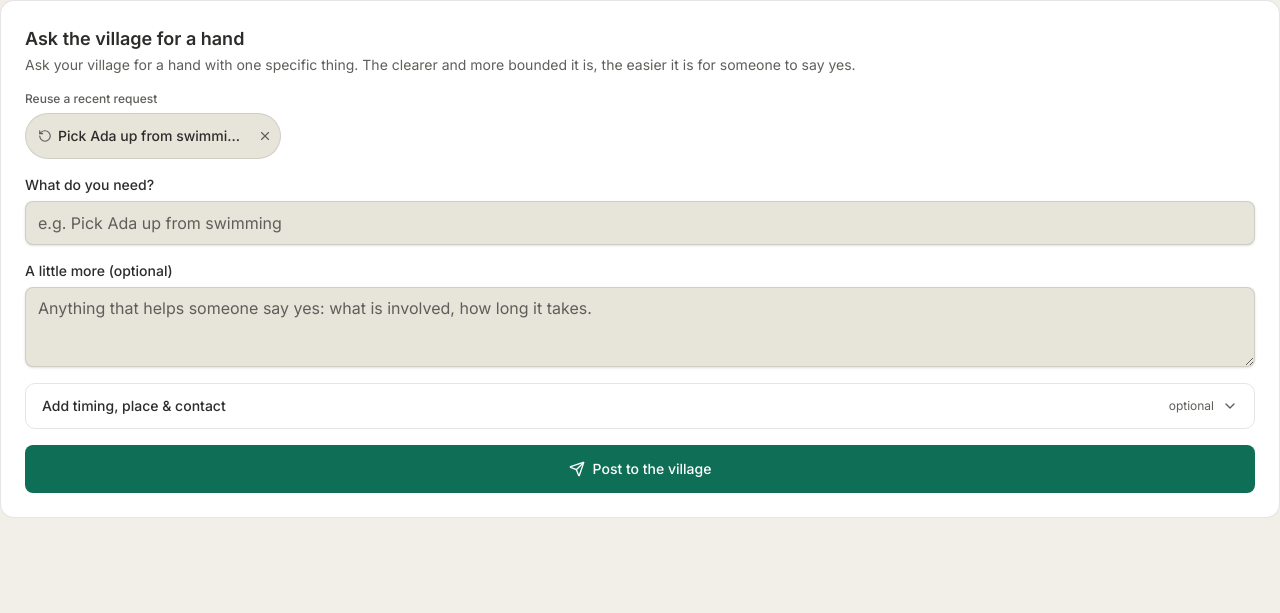
Test case: PostNeedForm › recording consent re-submits the pending need (consent endpoint then create)
Step 1. Type "Pick Ada up" into the field labelled "What do you need?" → (640, 223), box [25,201,1255,245]
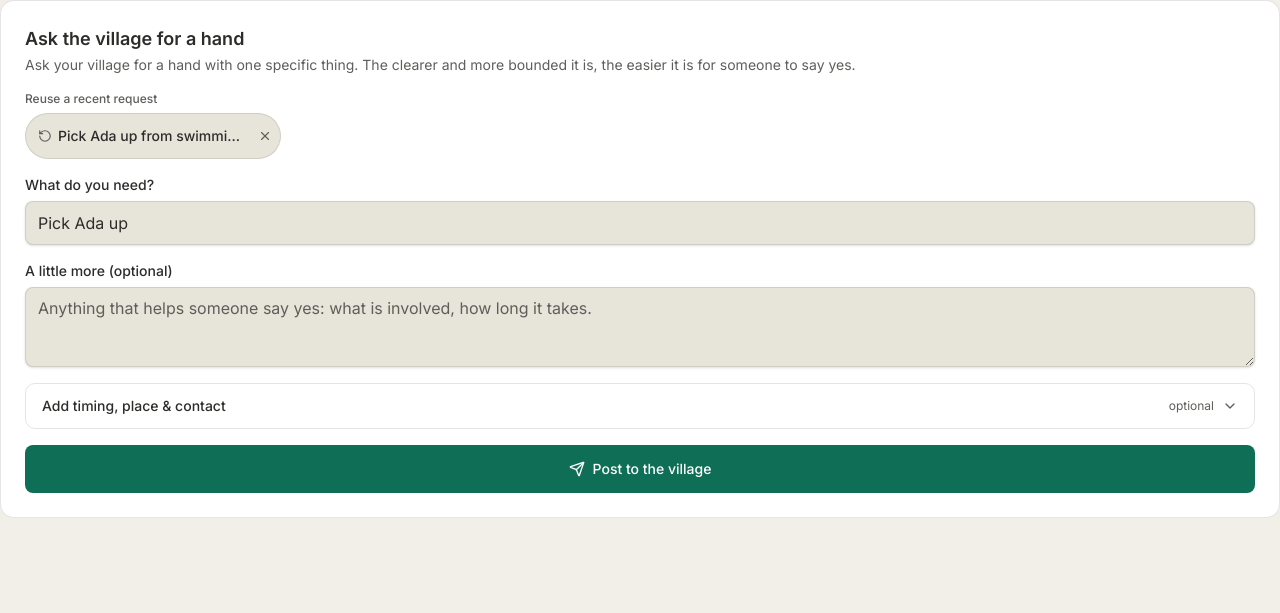
Step 2. Click the button "Post to the village" → (640, 469), box [25,445,1255,493]
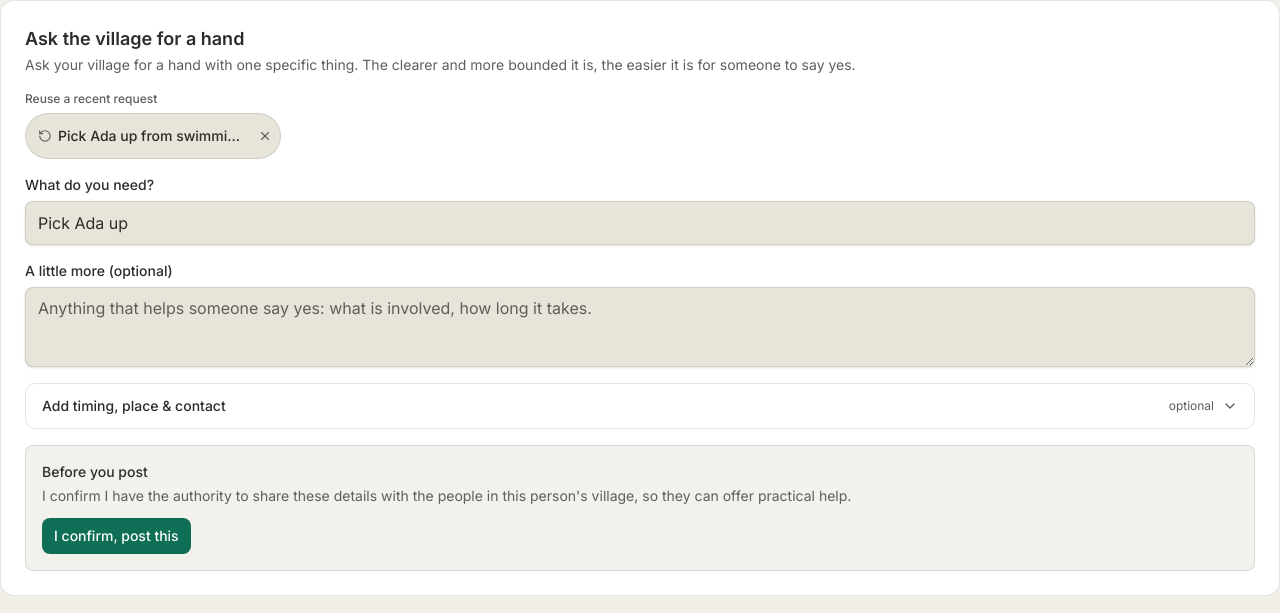
Step 3. Click the button "I confirm, post this" → (116, 536), box [42,518,191,554]
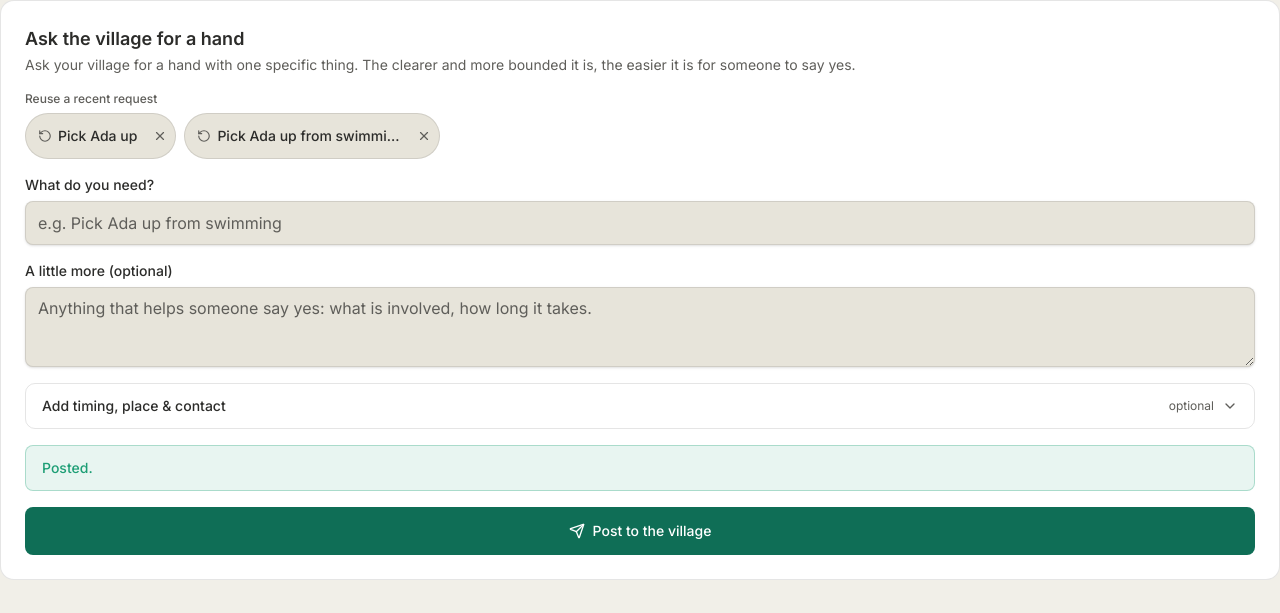
Expected: the text "Posted." is shown, [25,445,1255,491]
